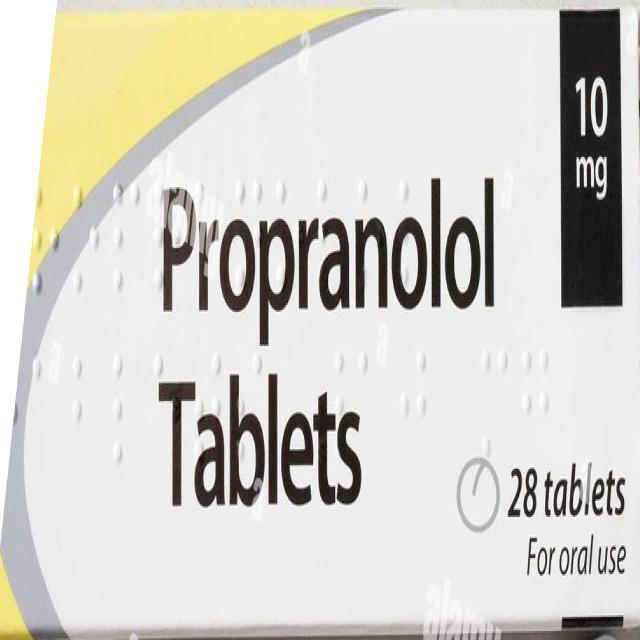drug-name: (159, 170, 502, 331)
